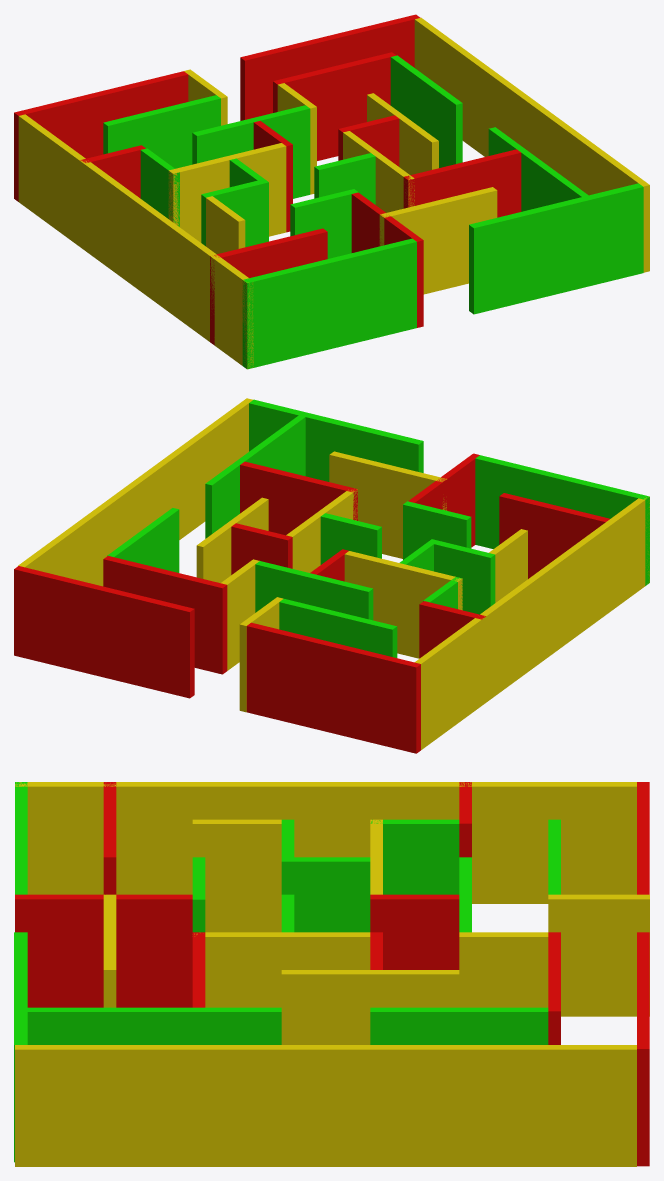
The model's file is maze2.fbx.
The picture shows the model from 3 angles, top to bottom: view 1: azimuth 30°, elevation 25°; view 2: azimuth 150°, elevation 25°; view 3: azimuth 270°, elevation 25°; orthographic projection. The views are drawn at different scales.
Parts seen in each view (by area): view 1: Curve.016, Curve.015, Curve.014, Curve.028, Curve.001, Curve, Curve.013, Curve.003, Curve.006, Curve.002, Curve.011, Curve.026 (+17 smaller); view 2: Curve.016, Curve.001, Curve, Curve.028, Curve.014, Curve.015, Curve.003, Curve.006, Curve.013, Curve.011, Curve.012, Curve.027 (+17 smaller); view 3: Curve.028, Curve.016, Curve.022, Curve.020, Curve.025, Curve.027, Curve.018, Curve.024, Curve.023, Curve.026, Curve.021, Curve.019 (+14 smaller).
Boxes of the visible parts, left/top/right/bottom form: Curve.016: left=18, top=114, right=253, bottom=368; Curve.015: left=469, top=183, right=643, bottom=314; Curve.014: left=242, top=238, right=416, bottom=369; Curve.028: left=414, top=17, right=649, bottom=272; Curve.001: left=240, top=14, right=420, bottom=120; Curve: left=14, top=71, right=188, bottom=201; Curve.013: left=379, top=187, right=497, bottom=294; Curve.003: left=273, top=52, right=396, bottom=160; Curve.006: left=168, top=143, right=286, bottom=242; Curve.002: left=103, top=95, right=220, bottom=168; Curve.011: left=403, top=149, right=521, bottom=217; Curve.026: left=390, top=55, right=462, bottom=167; Curve.016: left=414, top=496, right=649, bottom=749; Curve.001: left=14, top=566, right=194, bottom=698; Curve: left=246, top=622, right=420, bottom=753; Curve.028: left=18, top=398, right=253, bottom=586; Curve.014: left=475, top=455, right=649, bottom=585; Curve.015: left=249, top=399, right=423, bottom=481; Curve.003: left=103, top=556, right=227, bottom=674; Curve.006: left=344, top=551, right=462, bottom=658; Curve.013: left=329, top=451, right=446, bottom=558; Curve.011: left=240, top=461, right=357, bottom=535; Curve.012: left=499, top=493, right=609, bottom=578; Curve.027: left=205, top=414, right=306, bottom=538; Curve.028: left=15, top=1045, right=636, bottom=1166; Curve.016: left=15, top=782, right=636, bottom=903; Curve.022: left=15, top=894, right=192, bottom=1007; Curve.020: left=548, top=894, right=649, bottom=1016; Curve.025: left=281, top=970, right=459, bottom=1044; Curve.027: left=15, top=1007, right=281, bottom=1044; Curve.018: left=192, top=819, right=281, bottom=932; Curve.024: left=194, top=932, right=370, bottom=1007; Curve.023: left=459, top=932, right=548, bottom=1007; Curve.026: left=370, top=1007, right=548, bottom=1044; Curve.021: left=370, top=894, right=459, bottom=969; Curve.019: left=281, top=857, right=370, bottom=932.
Size of the model in its own units: 985 by 201 by 990.
